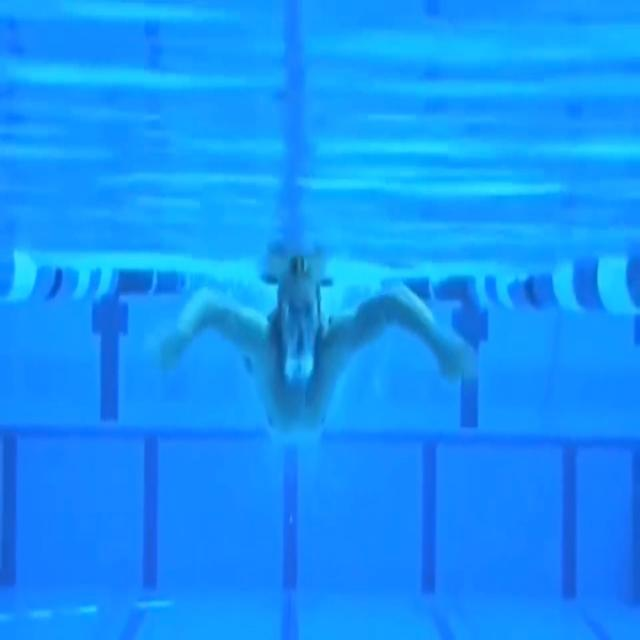Swimming: (152, 272, 476, 437)
